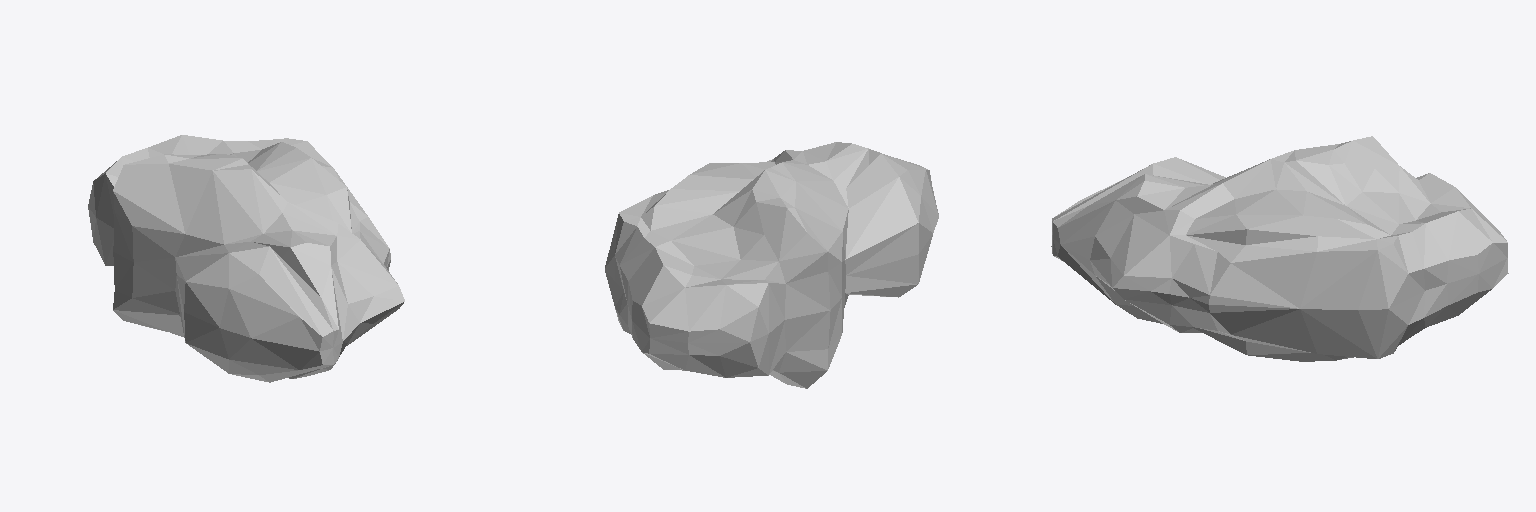
The model's file is Mineral.obj.
3 renders of one model, left to right at view 1: azimuth 30°, elevation 25°; view 2: azimuth 150°, elevation 25°; view 3: azimuth 270°, elevation 25°, orthographic.
Parts seen in each view (by area): view 1: Object.1; view 2: Object.1; view 3: Object.1.
Boxes of the visible parts, x1=… form: Object.1: x1=88, y1=135, x2=404, y2=382; Object.1: x1=605, y1=142, x2=938, y2=388; Object.1: x1=1051, y1=136, x2=1508, y2=361.
Bounding box in the file's own units: 20 × 15.97 × 35.53.